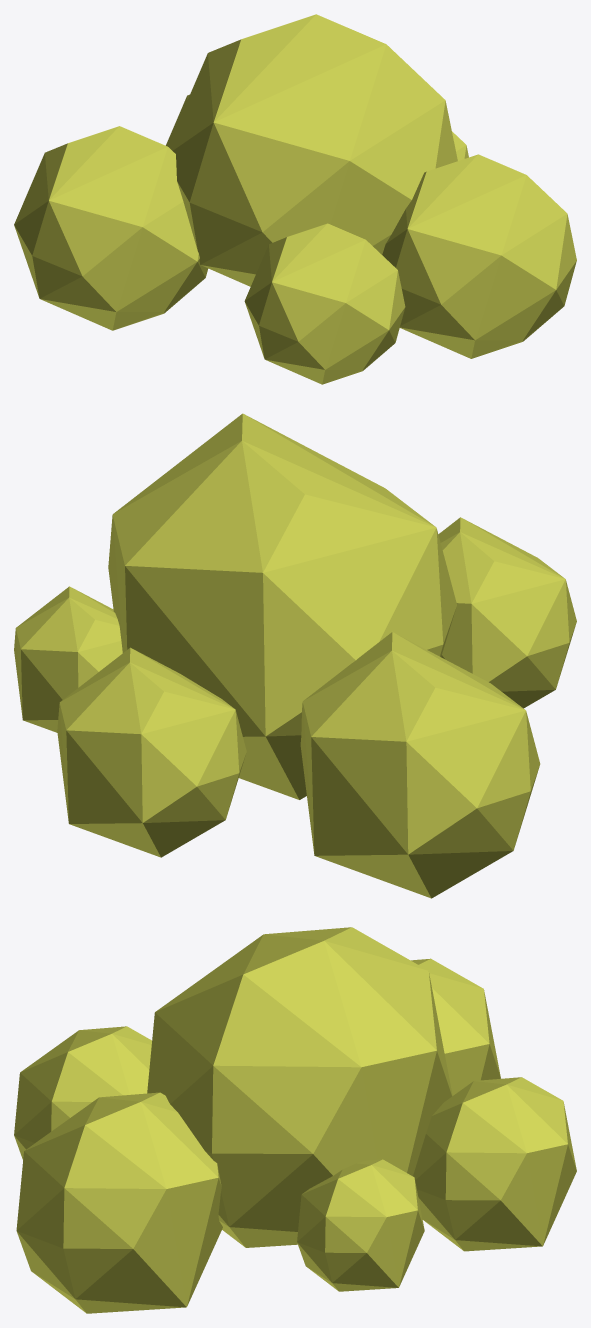
File: buicay1.fbx
3 renders of one model, top to bottom at view 1: azimuth 30°, elevation 25°; view 2: azimuth 150°, elevation 25°; view 3: azimuth 270°, elevation 25°, orthographic. The views are drawn at different scales.
Visible parts, largest first — view 1: buicay1; view 2: buicay1; view 3: buicay1.
Boxes of the visible parts, x1,y1,x2,y2 form: buicay1: (14, 14, 576, 384); buicay1: (14, 413, 576, 898); buicay1: (14, 927, 576, 1313).
Bounding box in the file's own units: 2.71 × 1.78 × 2.75.
Materials: 1 (1 with a texture image).
